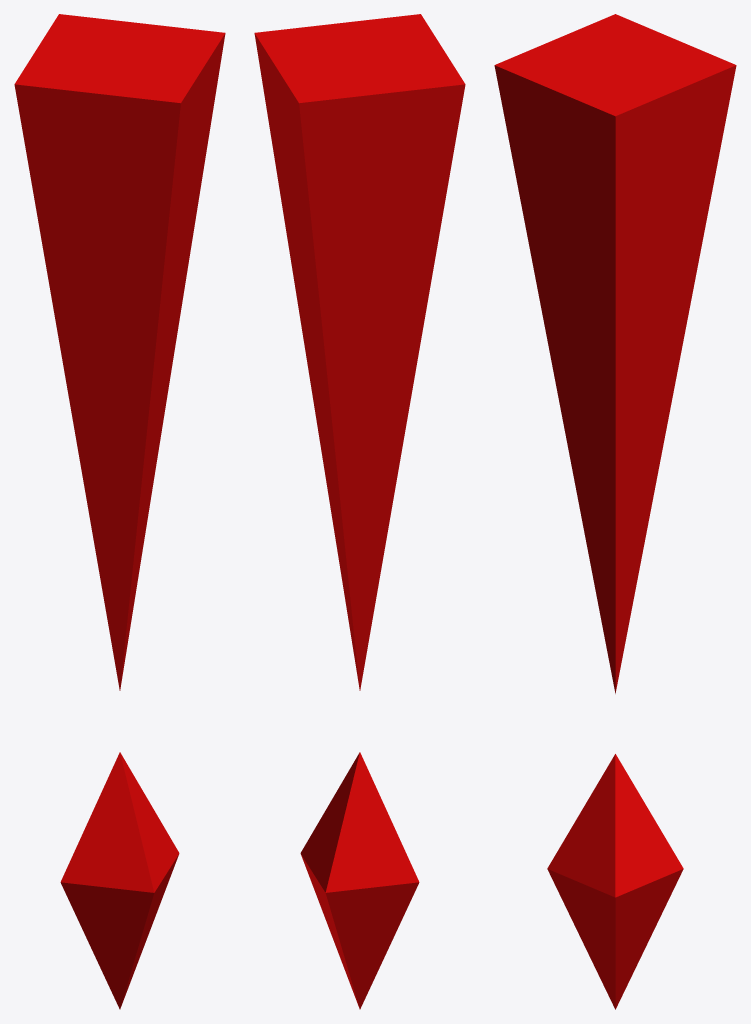
The model's file is Exclaimation Mark.fbx.
The picture shows the model from 3 angles, left to right: view 1: azimuth 30°, elevation 25°; view 2: azimuth 150°, elevation 25°; view 3: azimuth 270°, elevation 25°; orthographic projection.
Parts seen in each view (by area): view 1: Objective_Chiko_Idicator; view 2: Objective_Chiko_Idicator; view 3: Objective_Chiko_Idicator.
Part boxes in pixels (x1,y1,x2,y2): Objective_Chiko_Idicator: (14,14,225,1009); Objective_Chiko_Idicator: (254,14,465,1009); Objective_Chiko_Idicator: (494,14,736,1009).
Size of the model in its own units: 2.82 by 12.13 by 2.82.
